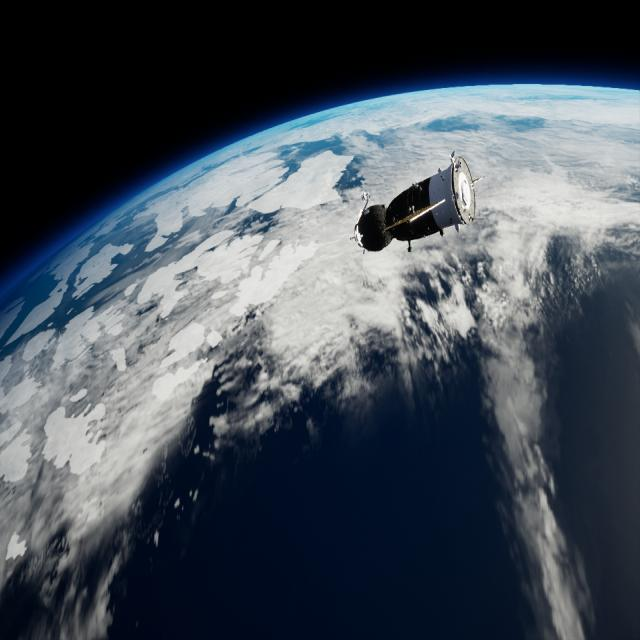Satellites revolving around earth: (352, 149, 486, 256)
